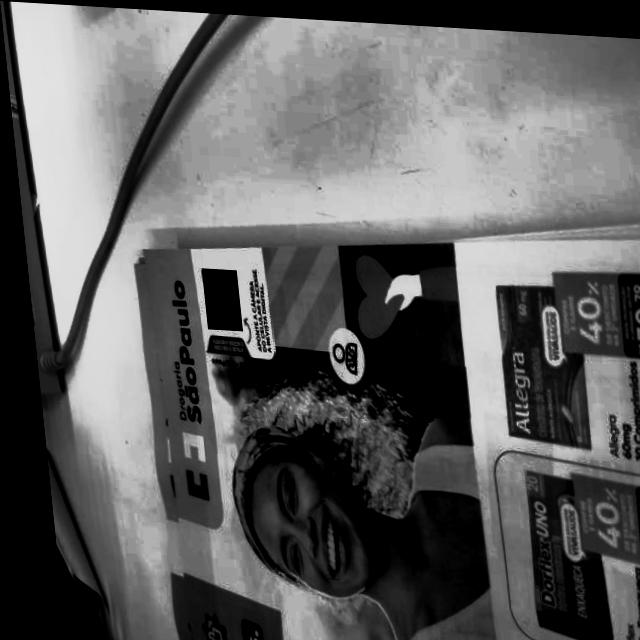qr_code: (196, 265, 236, 328)
